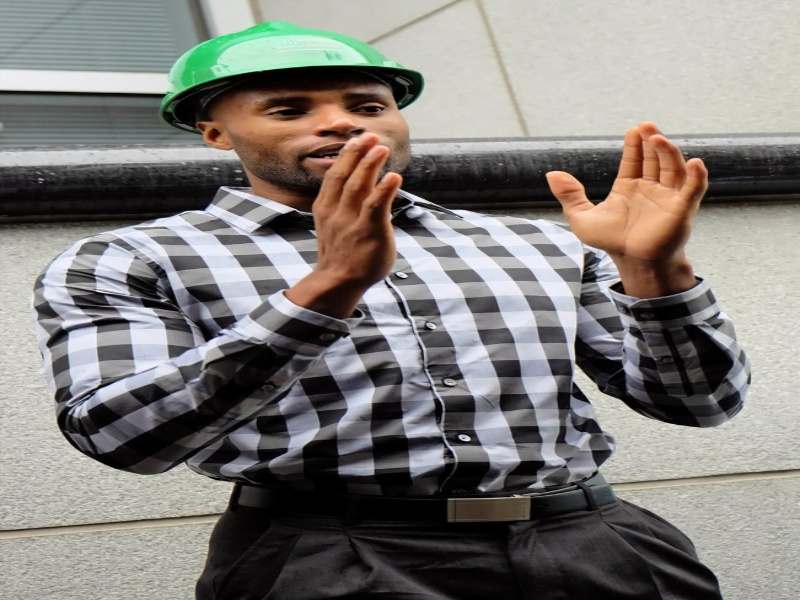Baret: (161, 21, 427, 108)
